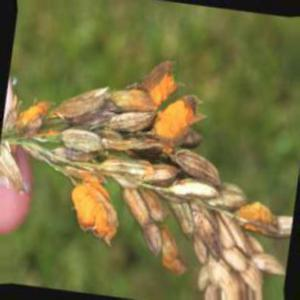Leaf_Scald: (139, 66, 194, 143), (73, 173, 114, 239), (155, 231, 185, 283), (239, 199, 280, 232)
